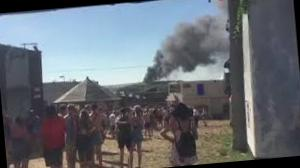Smoke: (136, 9, 236, 89)
